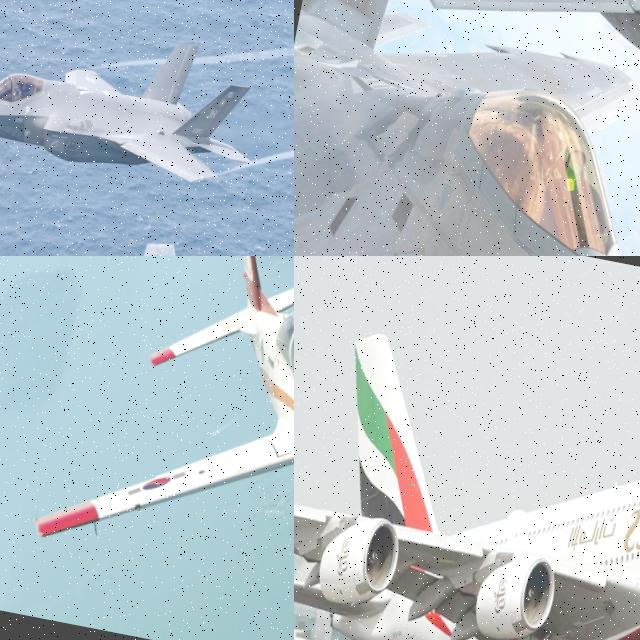A380: (294, 309, 640, 640)
F22: (294, 0, 640, 256), (0, 0, 269, 208), (417, 0, 640, 127), (0, 177, 294, 256)
KT-1: (31, 256, 294, 632)
